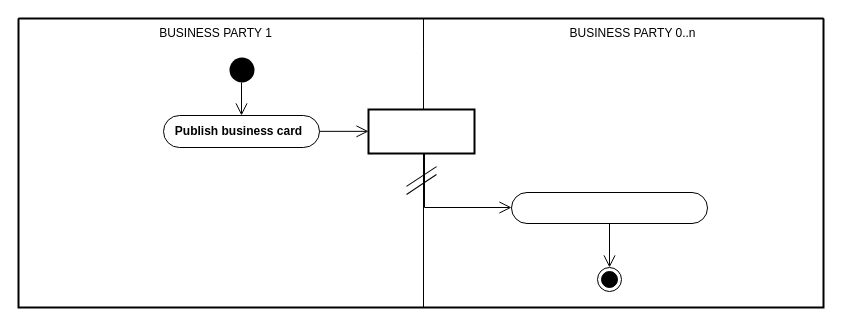
This 841x325 diagram has some shape labels left out. The centre of each missing label's shape, as x and y in pixels:
"Business Card" belongs at (x=421, y=131).
"Download business card" belongs at (x=609, y=208).
